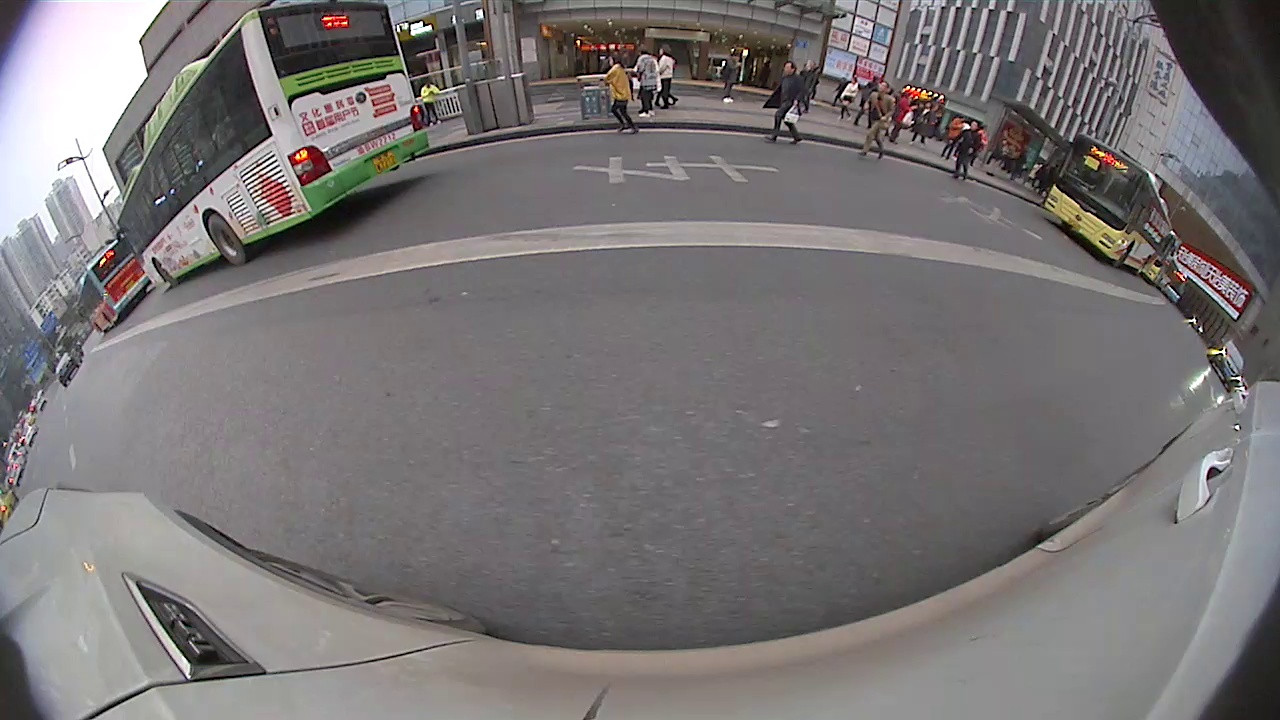car: (891, 147, 1128, 340), (82, 163, 258, 308), (606, 41, 677, 116), (1172, 344, 1223, 408)
front: (134, 245, 173, 290), (1082, 307, 1119, 339)
person: (432, 65, 449, 129), (458, 68, 470, 123)
rear: (996, 271, 1045, 314), (93, 275, 123, 310)
